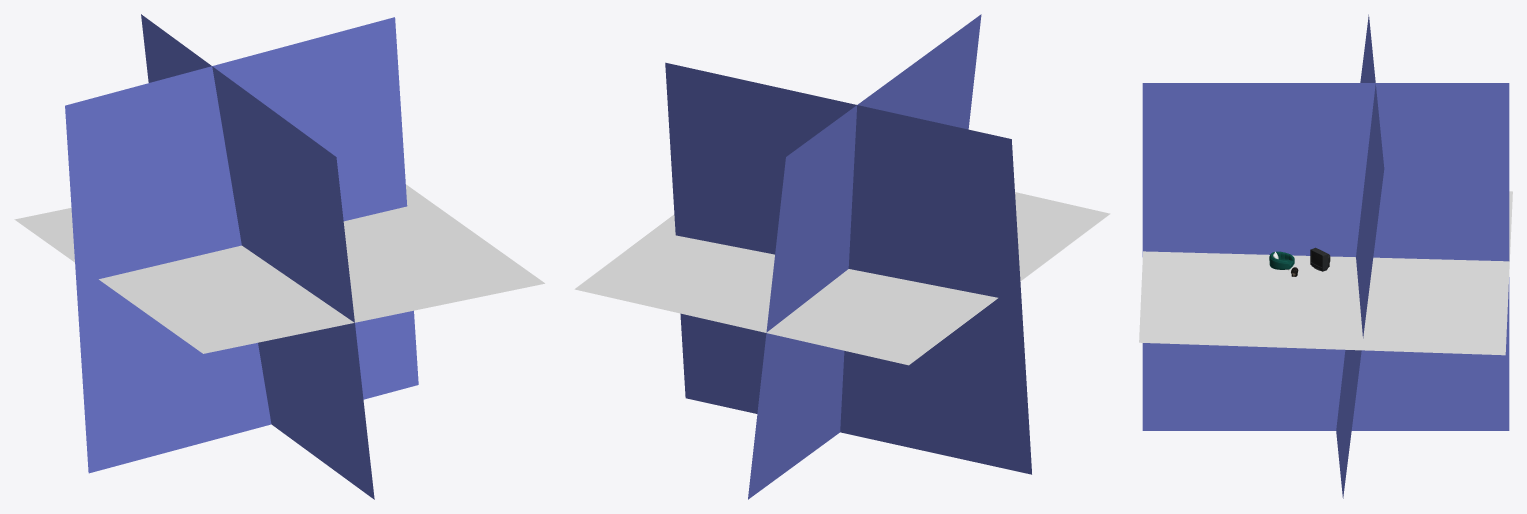
File: cat-transformed.glb
3 renders of one model, left to right at view 1: azimuth 30°, elevation 25°; view 2: azimuth 150°, elevation 25°; view 3: azimuth 270°, elevation 25°, orthographic. The views are drawn at different scales.
Visible parts, largest first — view 1: wall, Plane; view 2: wall, Plane; view 3: wall, Plane.
Part boxes in pixels (x1,y1,x2,y2): wall: (65, 14, 418, 499); Plane: (14, 184, 544, 353); wall: (665, 14, 1031, 499); Plane: (574, 192, 1110, 365); wall: (1142, 14, 1509, 498); Plane: (1139, 191, 1512, 355).
Size of the model in its own units: 27.29 by 25.18 by 25.83.
Materials: 10 (5 with a texture image).
